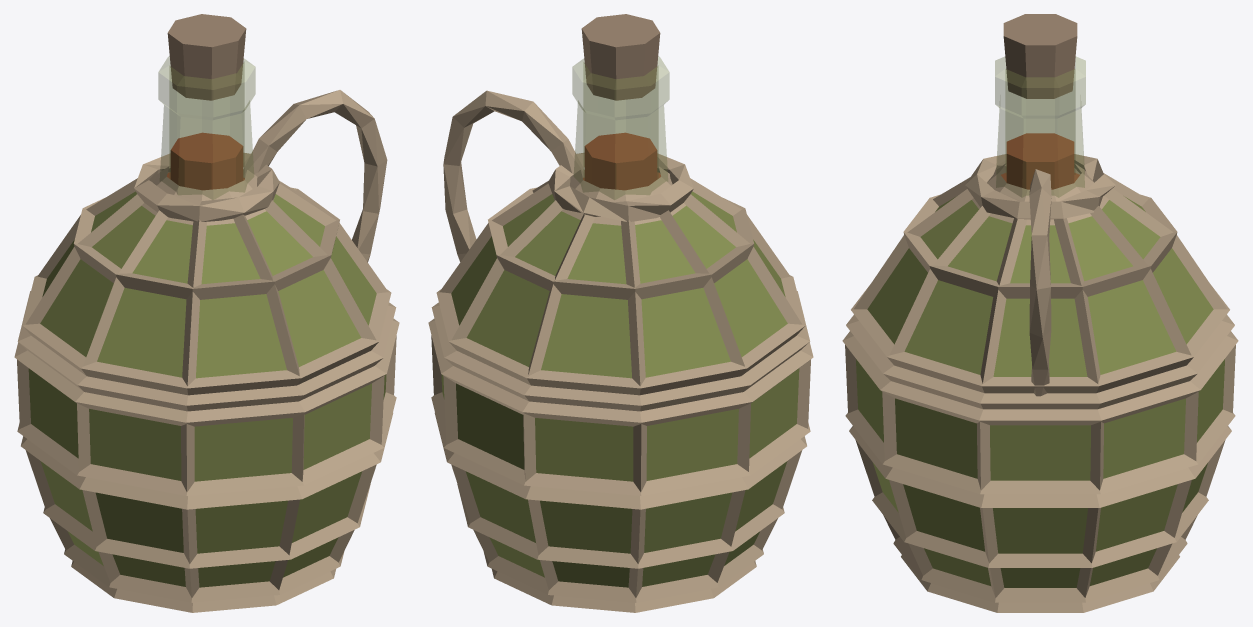
The model's file is chicha-chuico-c45103.glb.
3 views of the same model, side by side, from view 1: azimuth 30°, elevation 25°; view 2: azimuth 150°, elevation 25°; view 3: azimuth 270°, elevation 25° (orthographic).
Parts seen in each view (by area): view 1: chuico-wicker, chuico-glass, chuico-neck, cork-mesh; view 2: chuico-wicker, chuico-glass, chuico-neck, cork-mesh; view 3: chuico-wicker, chuico-glass, chuico-neck, cork-mesh.
Part boxes in pixels (<box>): chuico-wicker: <box>14,90,399,612</box>; chuico-glass: <box>28,191,386,587</box>; chuico-neck: <box>158,56,255,199</box>; cork-mesh: <box>167,14,246,100</box>; chuico-wicker: <box>428,90,813,612</box>; chuico-glass: <box>441,191,799,587</box>; chuico-neck: <box>572,56,669,199</box>; cork-mesh: <box>581,14,660,100</box>; chuico-wicker: <box>842,133,1238,612</box>; chuico-glass: <box>856,196,1224,587</box>; chuico-neck: <box>995,56,1085,197</box>; cork-mesh: <box>1003,14,1077,98</box>.
Bounding box in the file's own units: 0.2339 × 0.345 × 0.2342.
